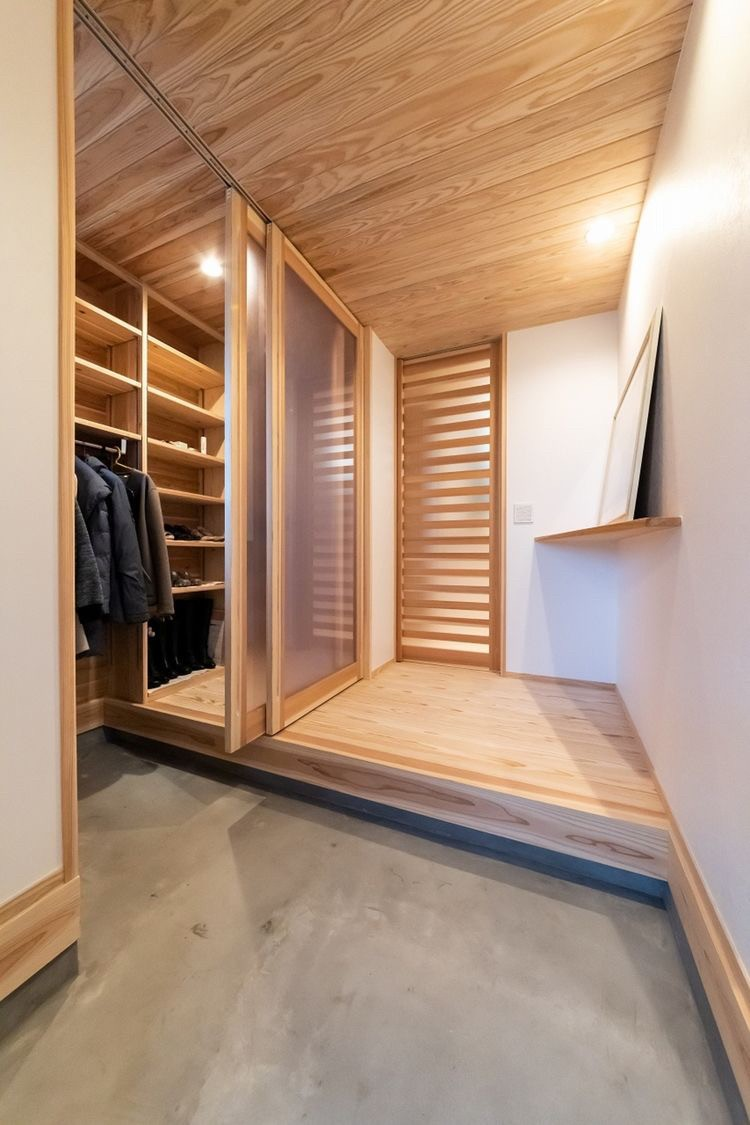floor: (0, 741, 736, 1124)
